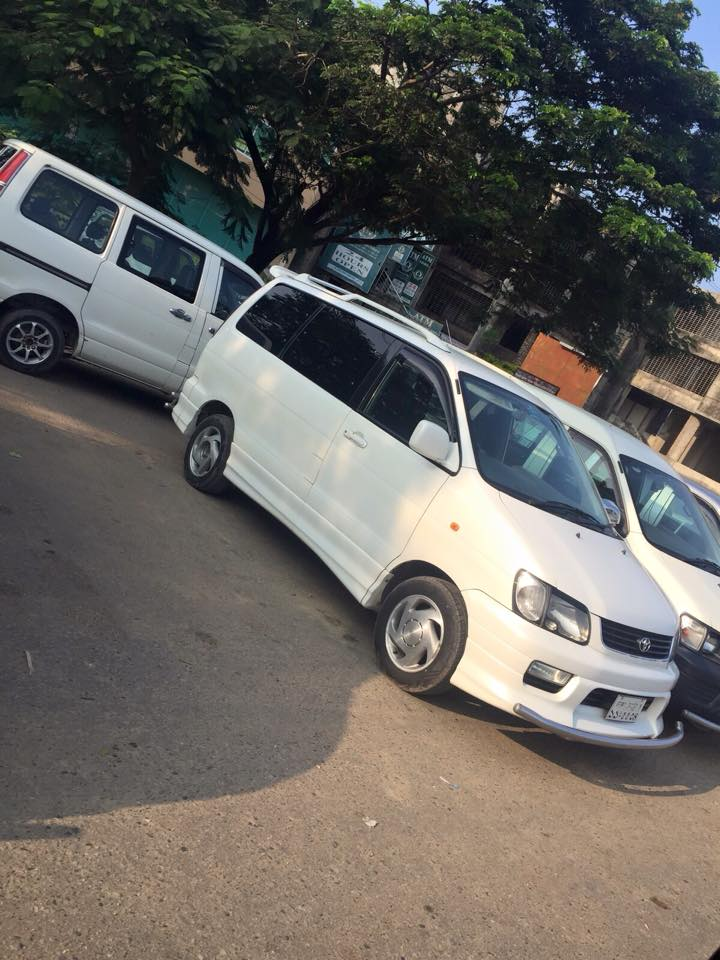registration_plate: (605, 693, 648, 725)
